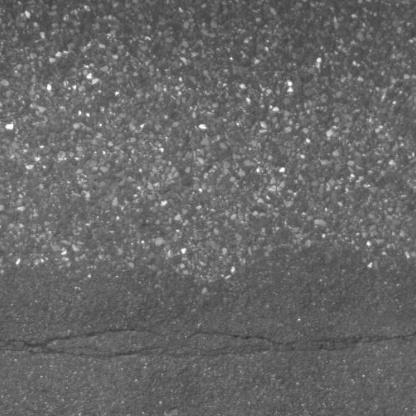Cracks: (0, 326, 416, 365)
